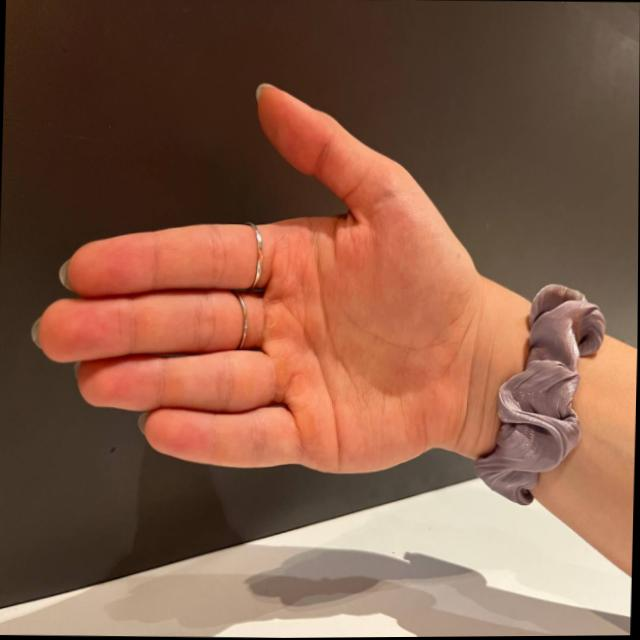v: (25, 70, 499, 478)
